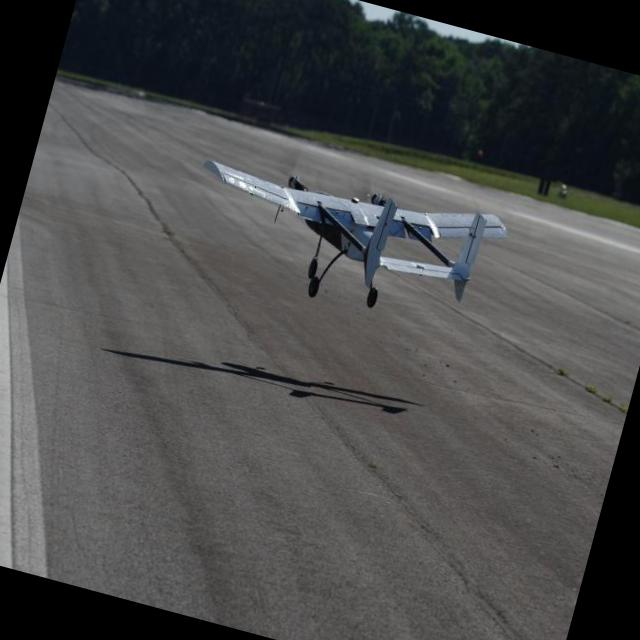UAV: (190, 97, 546, 337)
